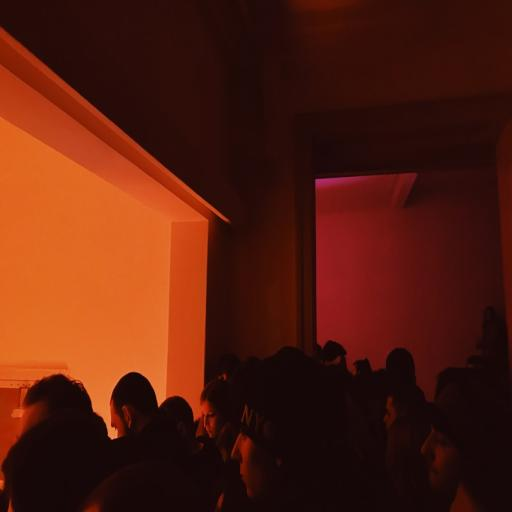face: (232, 433, 278, 500), (422, 429, 460, 498), (202, 401, 226, 439), (110, 401, 128, 438)
